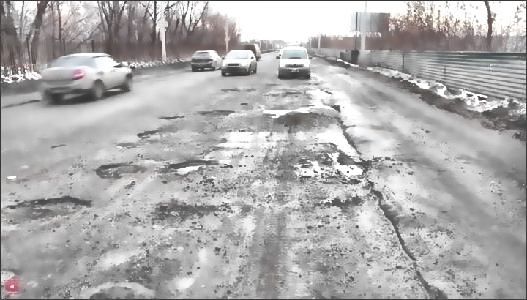pothole: (2, 194, 92, 220), (156, 201, 200, 222), (167, 156, 214, 175), (94, 159, 130, 181), (200, 106, 237, 119), (138, 126, 160, 139), (160, 113, 187, 120)
